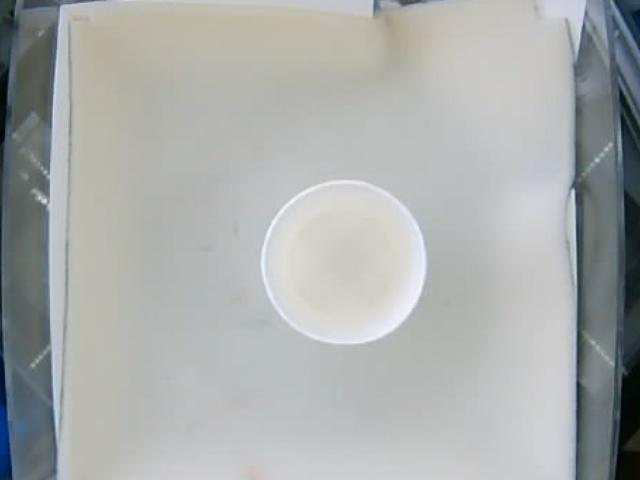Cup: (263, 178, 426, 344)
